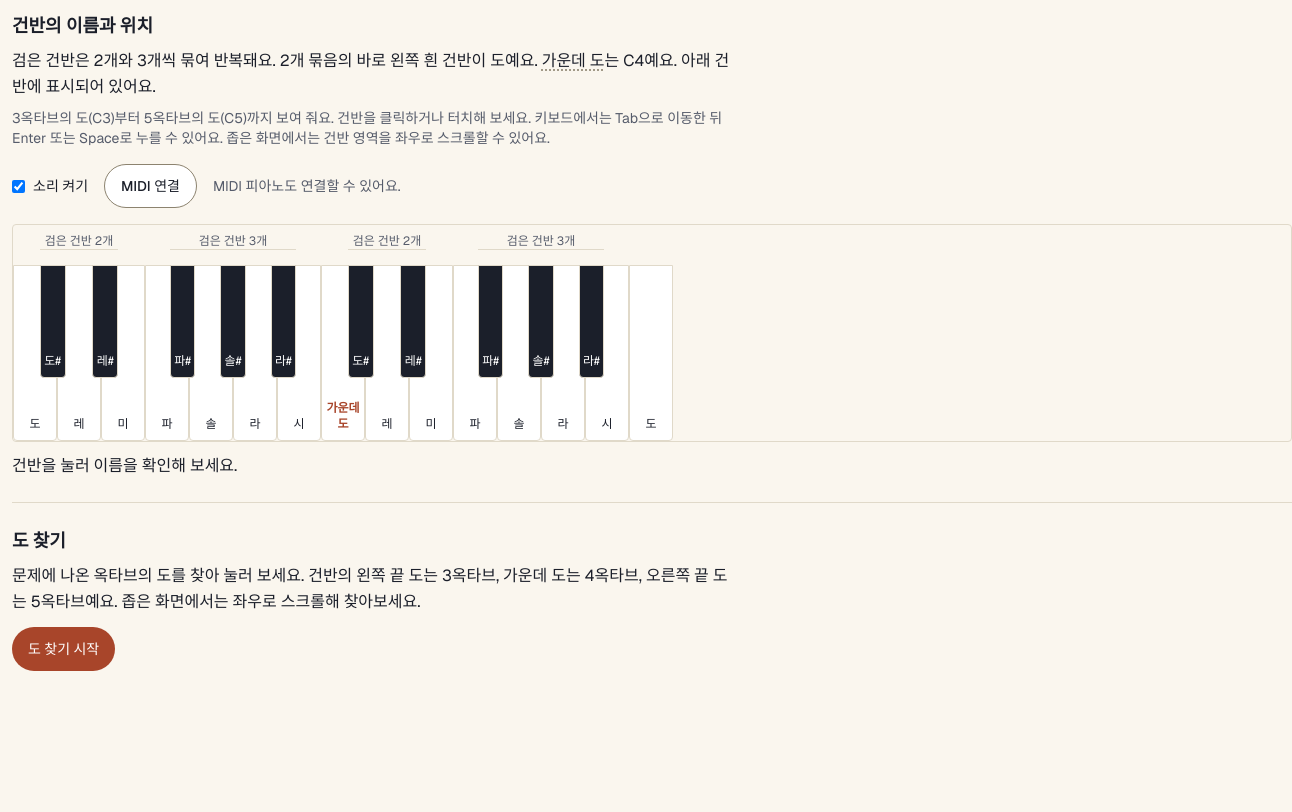
supports mute without disabling note names or practice
Click the checkbox labelled "소리 켜기" at point(18, 186), box [12,180,25,192]
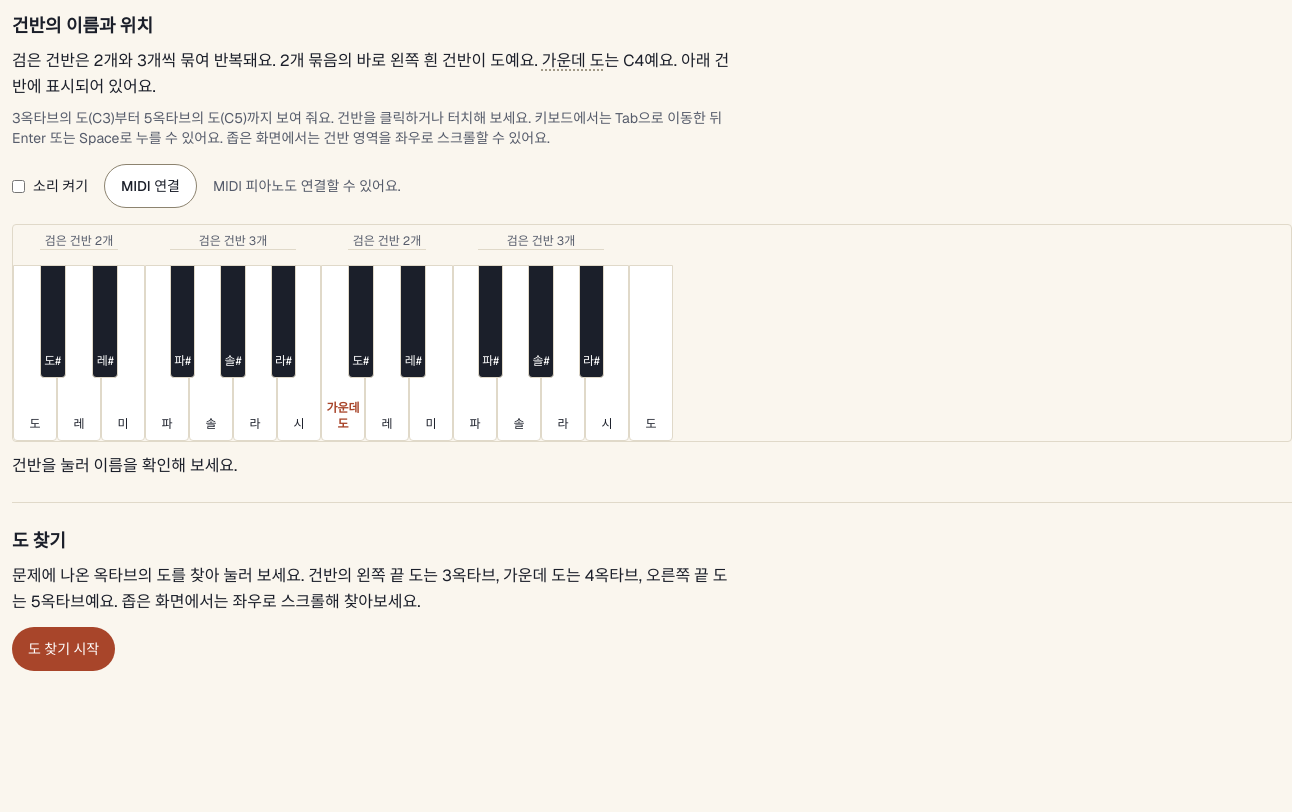
Click the button "도 찾기 시작" at point(64, 649), box [12,627,115,671]
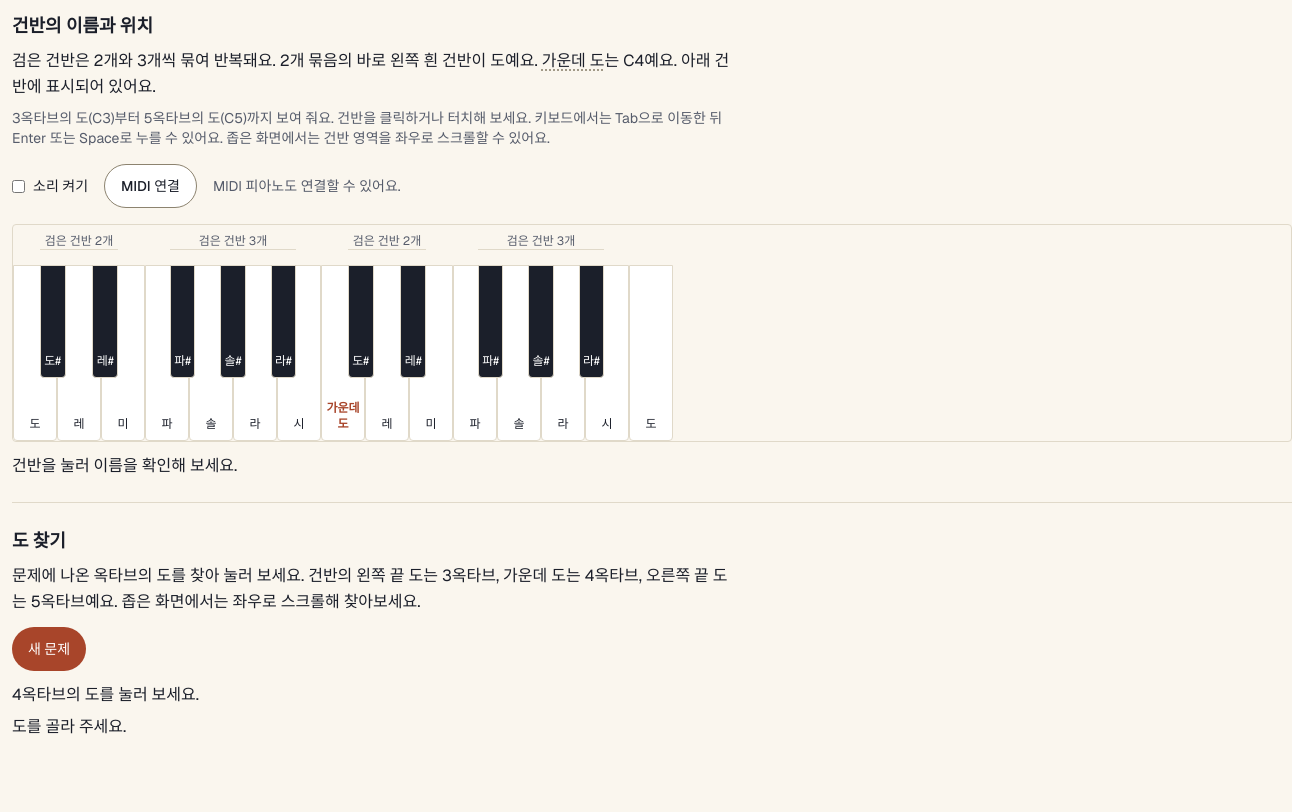
Click the button with aria-label "가운데 도 (4옥타브)" at point(343, 353), box [321,265,365,441]
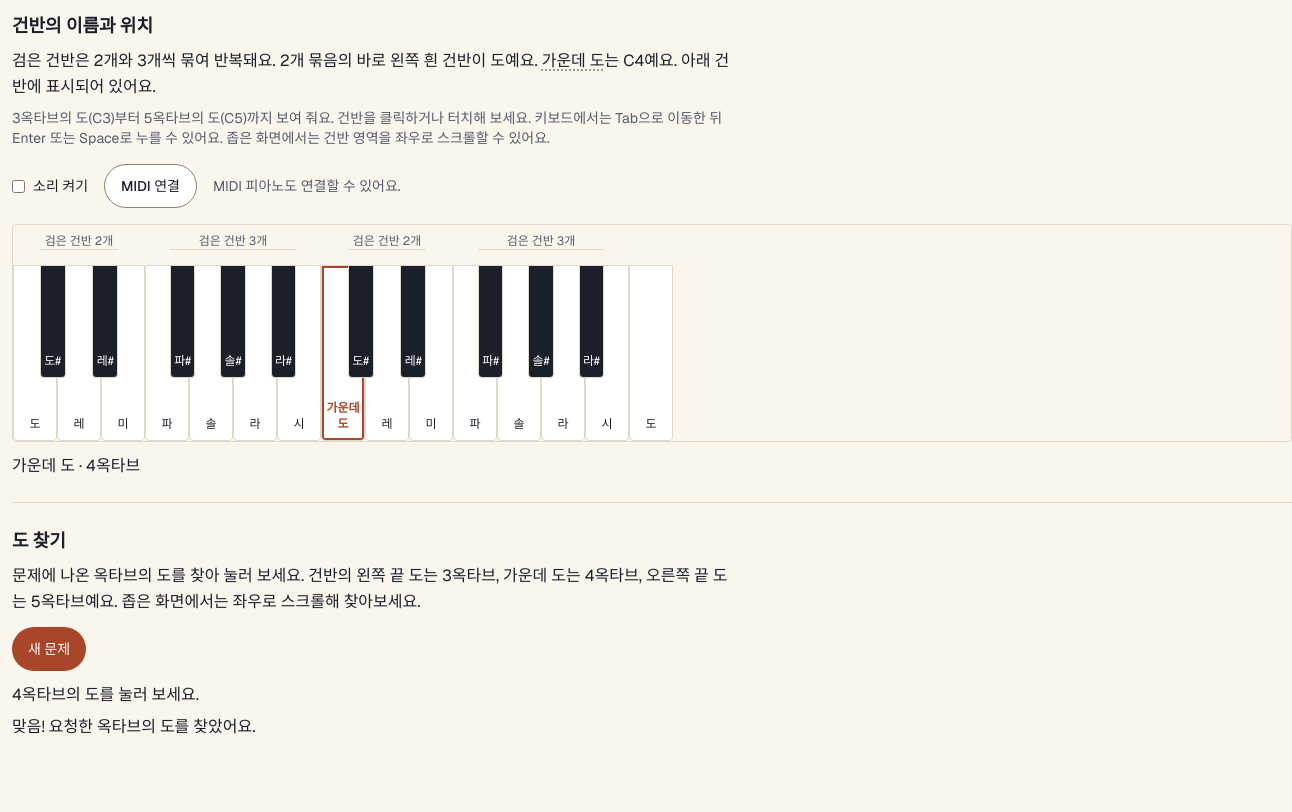
Check: the message named "연습 결과" shows "맞음", box [12,716,255,737]
